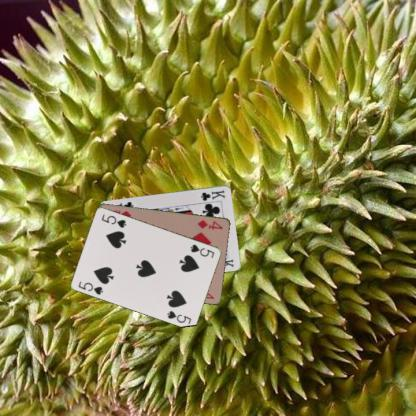4d: (195, 217, 224, 231)
5s: (76, 278, 104, 296), (188, 241, 215, 259)
Kc: (198, 187, 226, 202)
